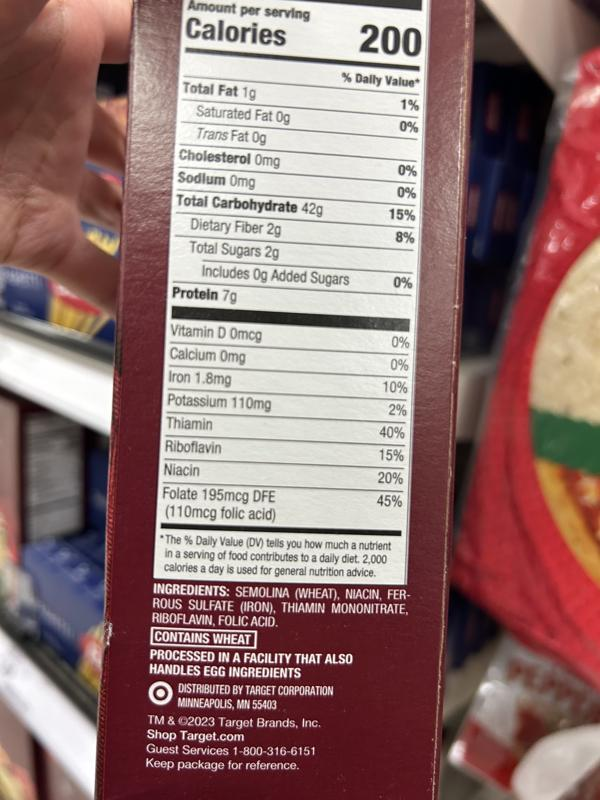ingredients: (149, 581, 412, 630)
